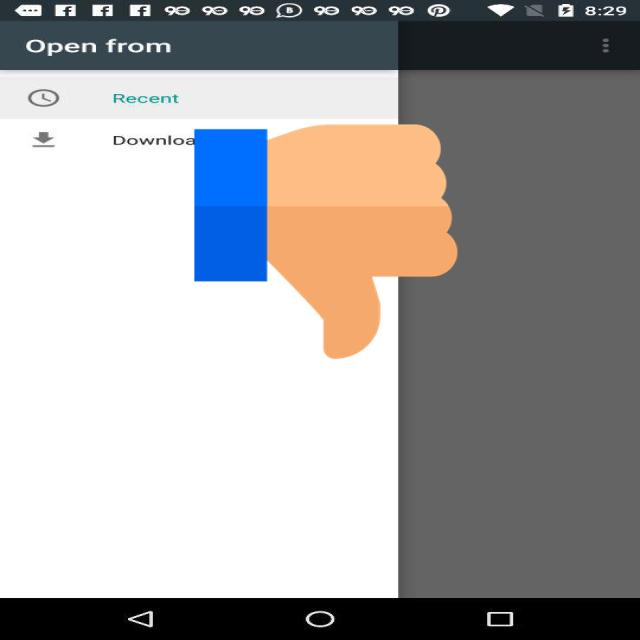obstruction: (195, 118, 458, 364)
